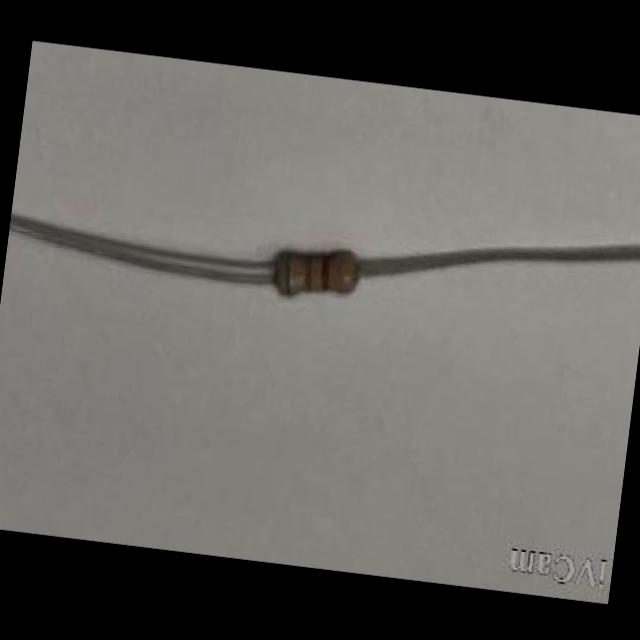Resistor: (273, 252, 359, 294)
brown: (320, 250, 331, 292)
